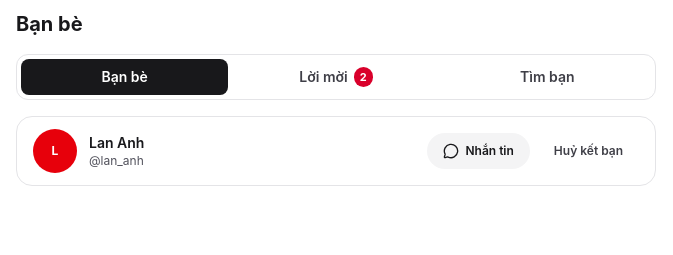
it: SOC-6b: /ban-be › unfriend asks first, then unfollows and removes the row
This screenshot has width=673, height=255.
Click the button with aria-label "Huỷ kết bạn với Lan Anh" at (588, 151), box [538,133,639,169]
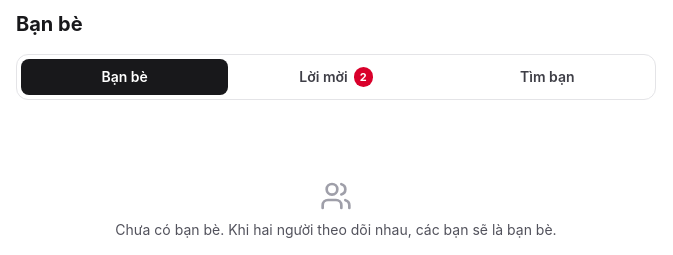
Now the link "Lan Anh" is gone
